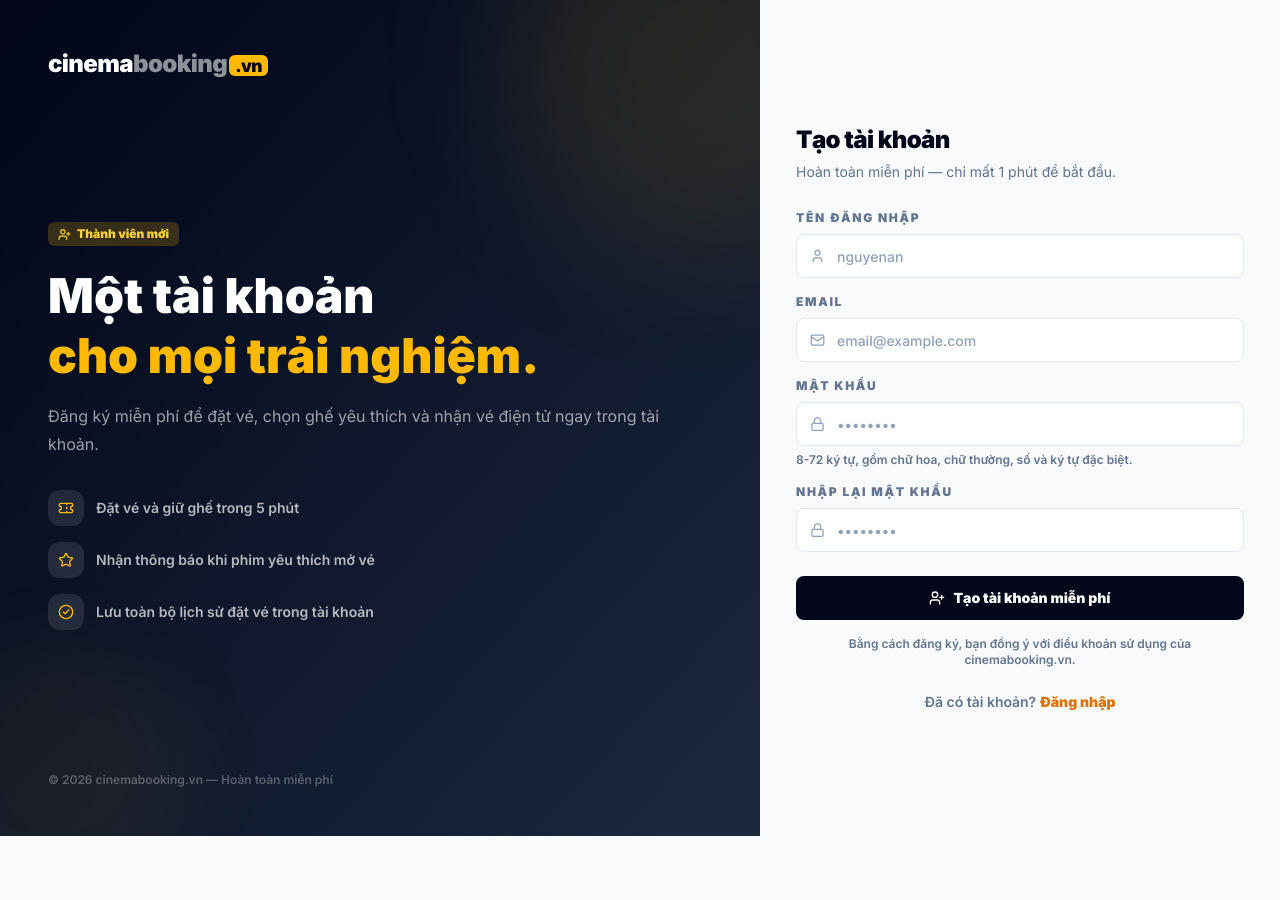
Test: RegisterPage › shows a Vietnamese message when username and email already exist
The image size is (1280, 900).
Type "user1" into the field with placeholder "nguyenan" at (1020, 256), box [796,234,1244,278]
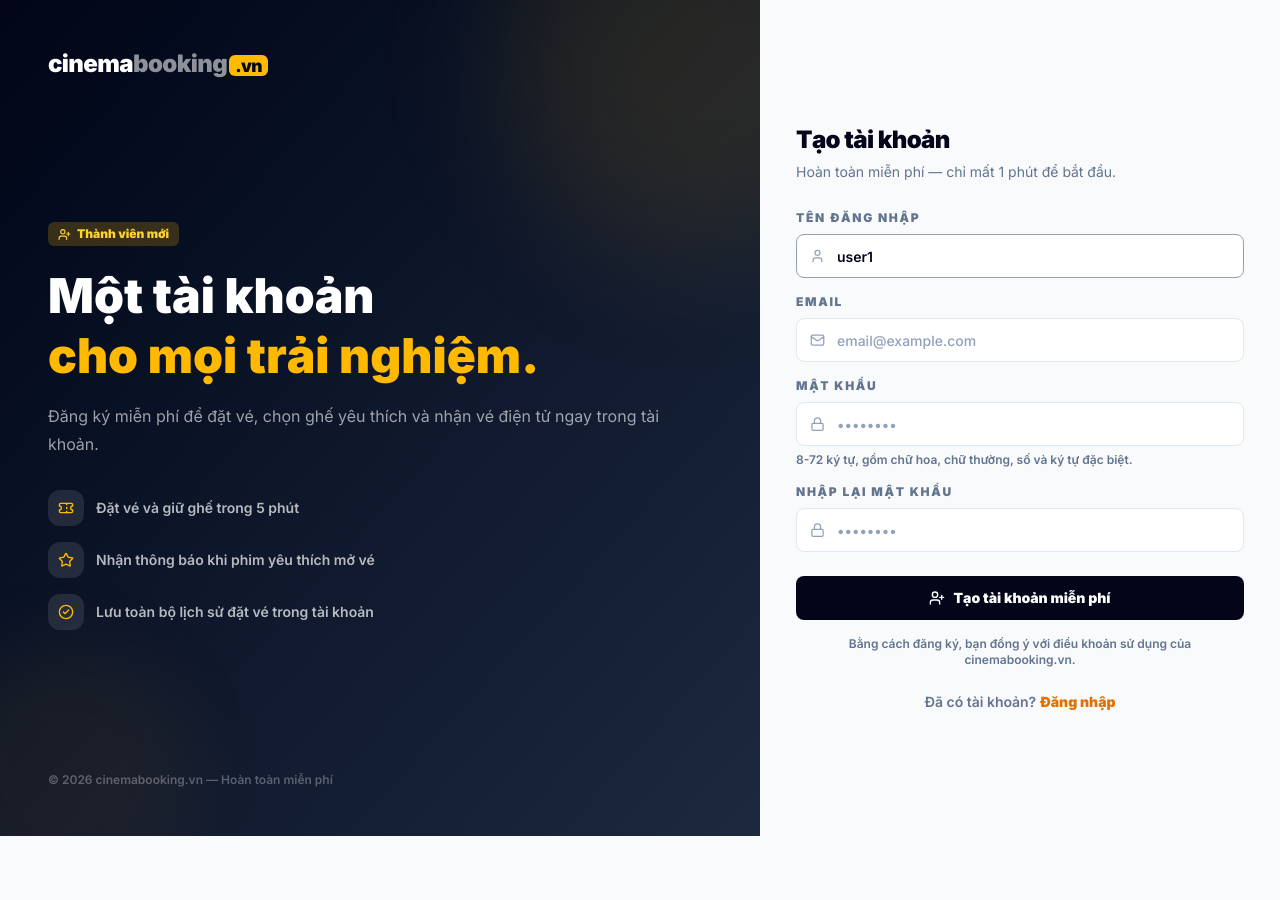
Type "user1@example.com" into the field with placeholder "email@example.com" at (1020, 340), box [796,318,1244,362]
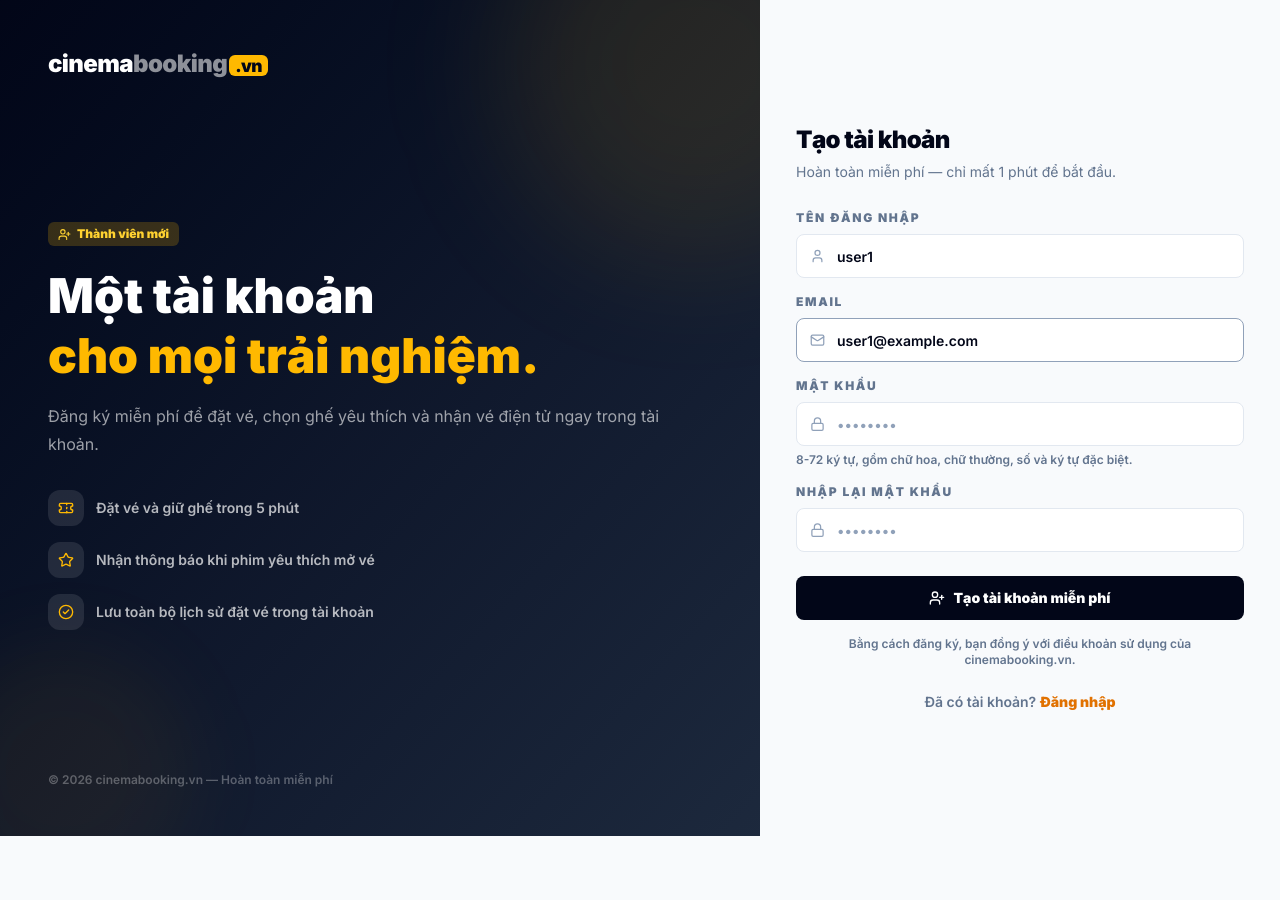
Type "Password@123" into the 1st password field with placeholder "••••••••" at (1020, 424), box [796,402,1244,446]
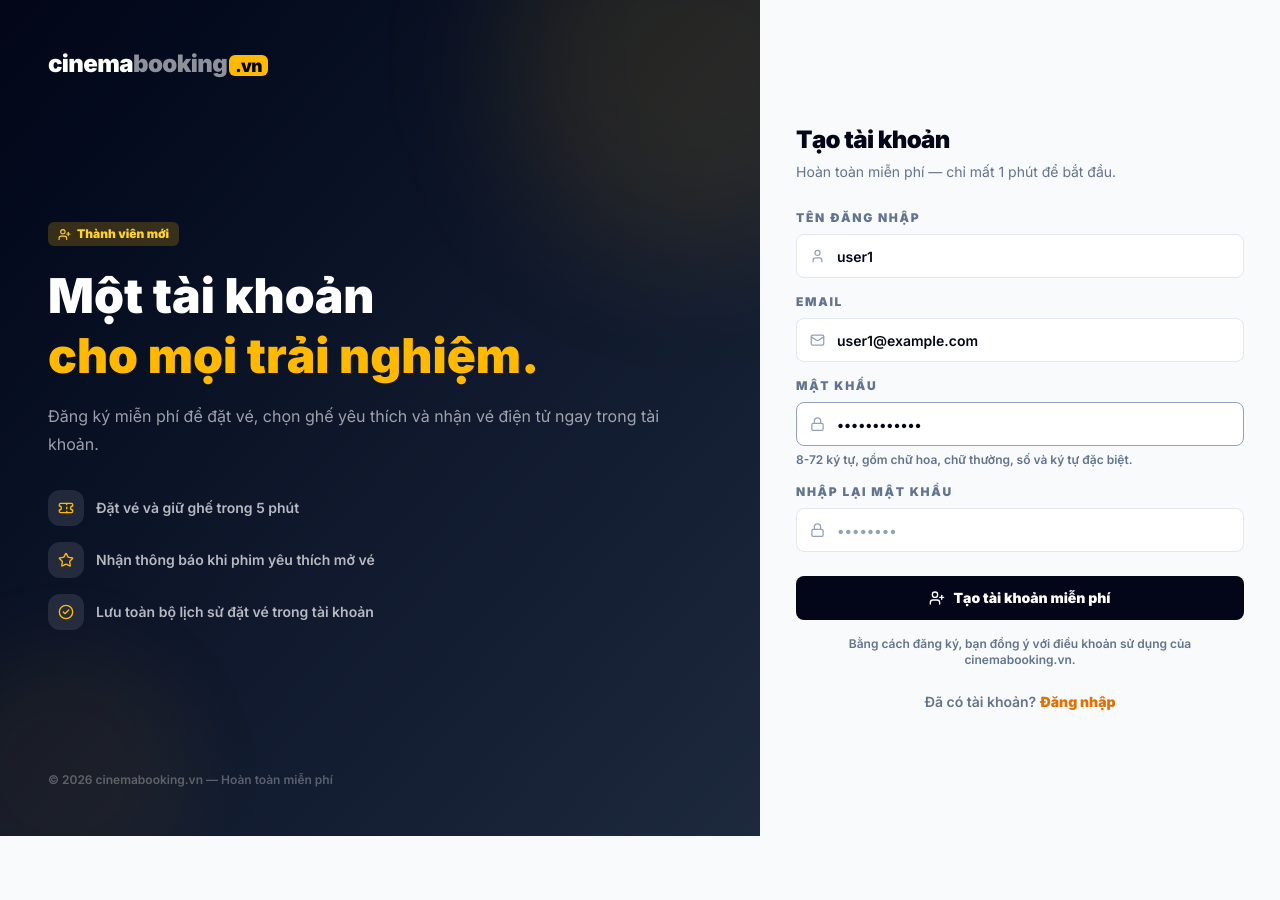
Type "Password@123" into the password field with placeholder "••••••••" at (1020, 530), box [796,508,1244,552]
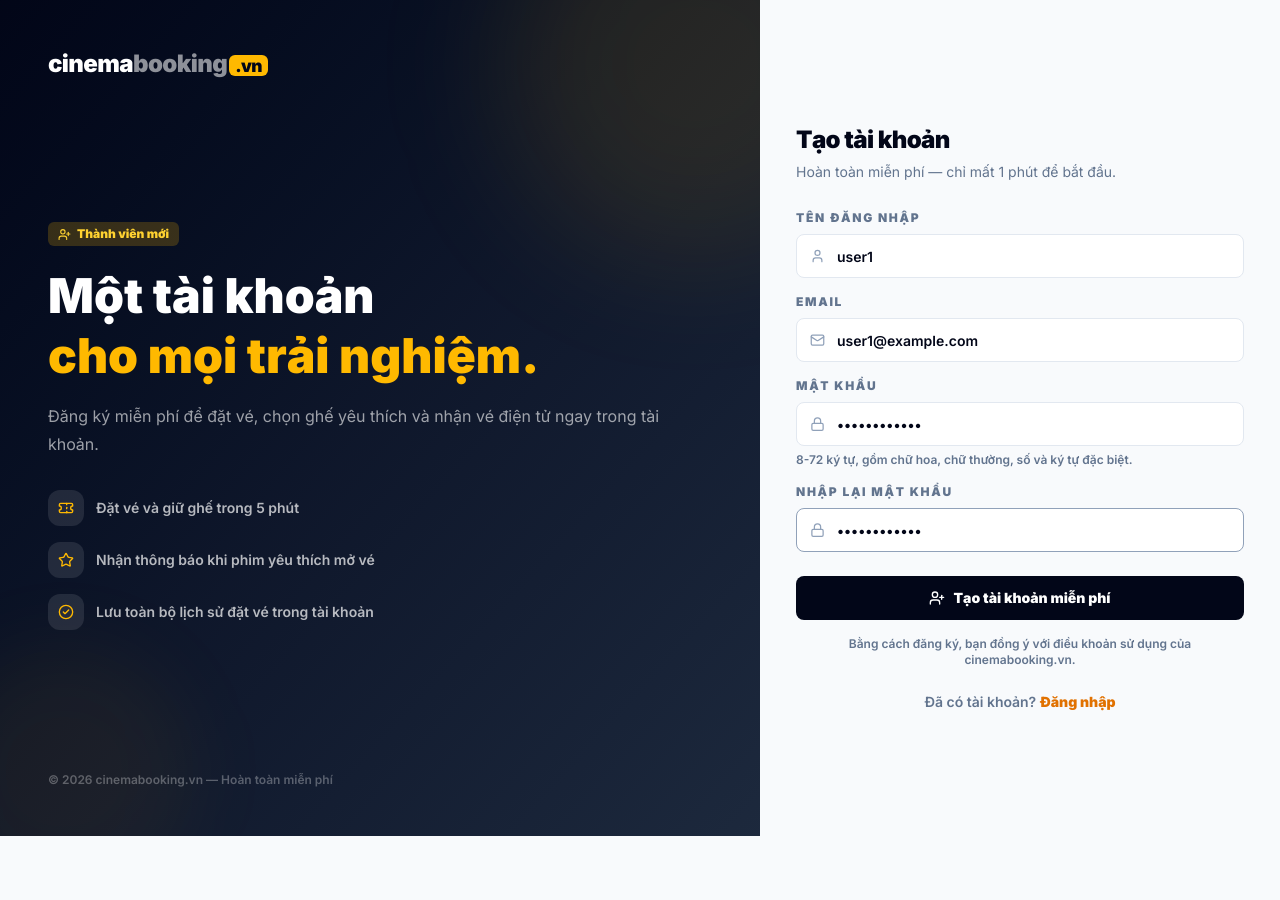
Click the button "Tạo tài khoản miễn phí" at (1020, 598), box [796,576,1244,620]
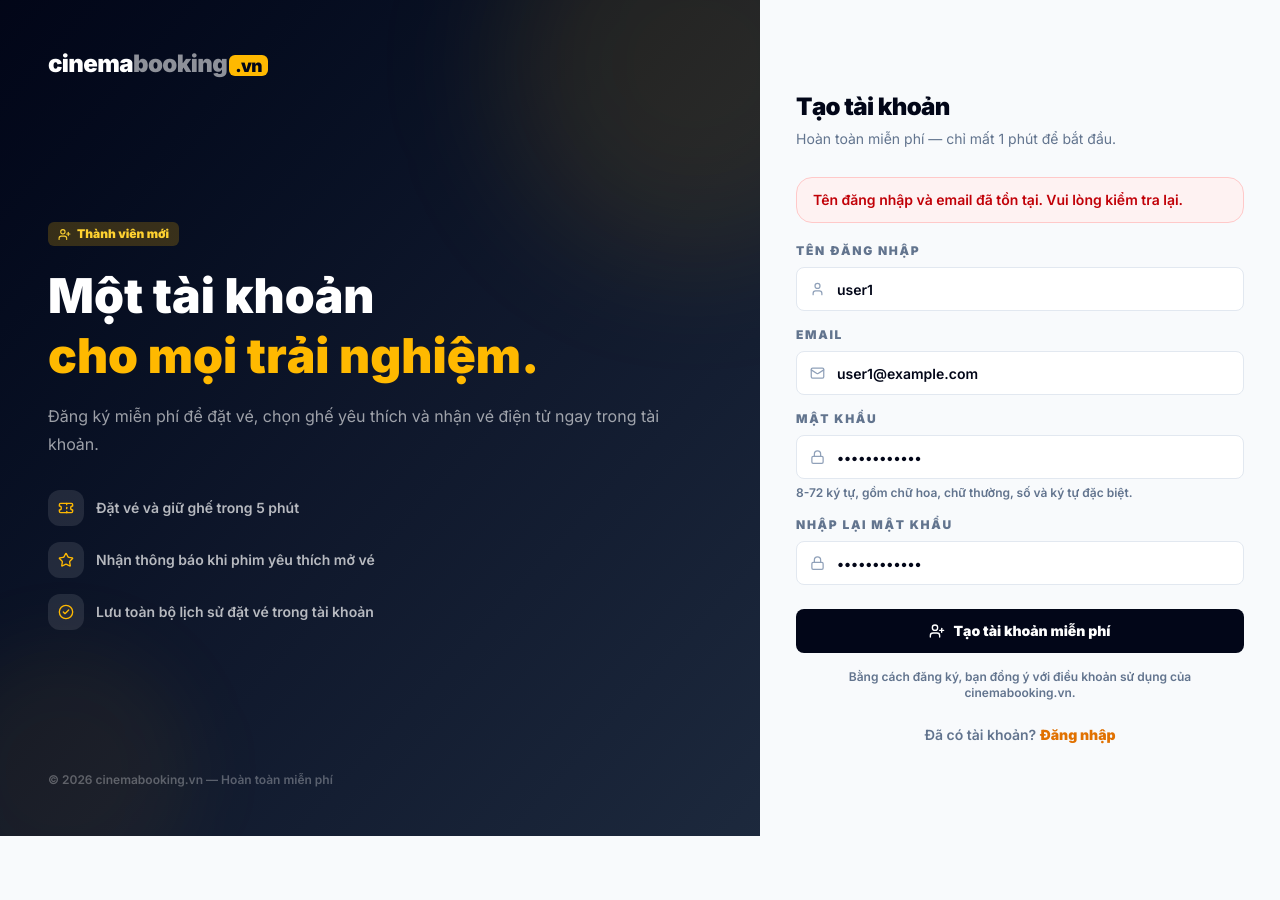
Check: the text "Tên đăng nhập và email đã tồn tại. Vui lòng kiểm tra lại." is shown, box [796,177,1244,223]
